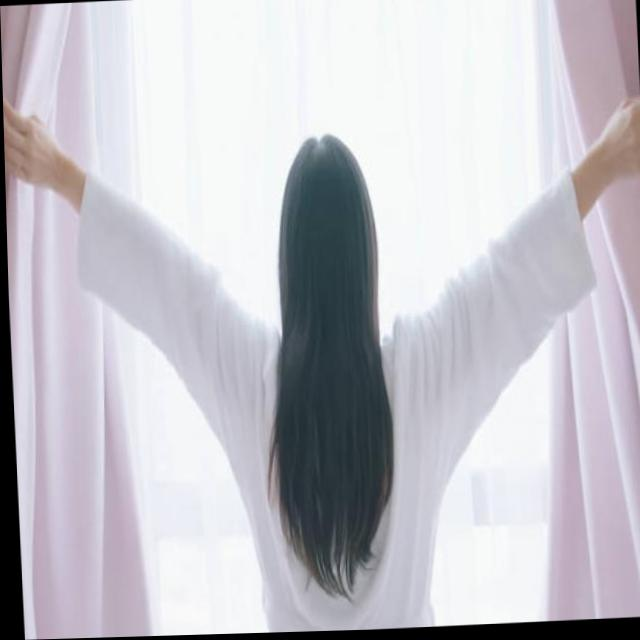no helmet: (270, 122, 385, 345)
